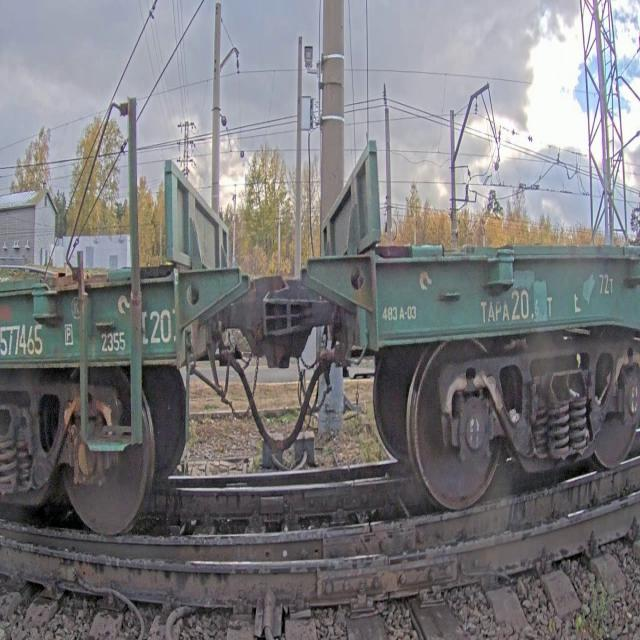flatcar: (277, 137, 640, 525), (0, 149, 268, 551)
